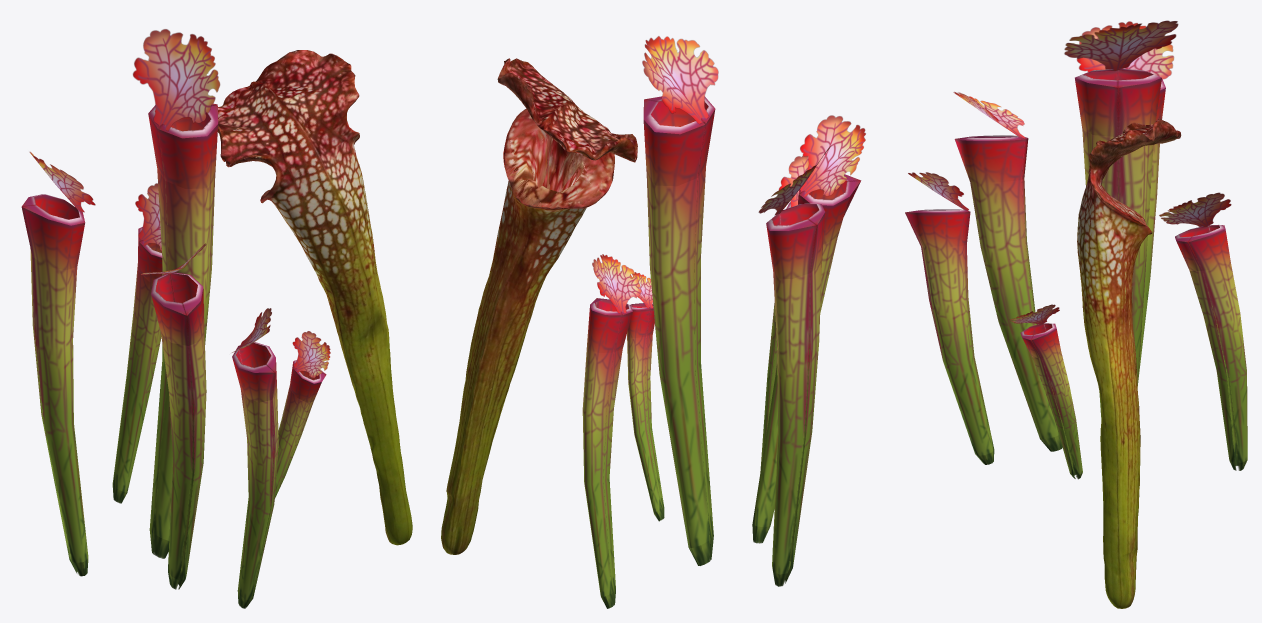
The model's file is pitchers.glb.
3 renders of one model, left to right at view 1: azimuth 30°, elevation 25°; view 2: azimuth 150°, elevation 25°; view 3: azimuth 270°, elevation 25°, orthographic. The views are drawn at different scales.
Visible parts, largest first — view 1: SM_Pitcherplant_CAO_Material #285_0, Object_2; view 2: SM_Pitcherplant_CAO_Material #285_0, Object_2; view 3: SM_Pitcherplant_CAO_Material #285_0, Object_2.
Part boxes in pixels (bbox=[...]): SM_Pitcherplant_CAO_Material #285_0: bbox=[21, 29, 330, 608]; Object_2: bbox=[217, 50, 412, 545]; SM_Pitcherplant_CAO_Material #285_0: bbox=[582, 36, 865, 608]; Object_2: bbox=[441, 58, 637, 554]; SM_Pitcherplant_CAO_Material #285_0: bbox=[905, 20, 1247, 479]; Object_2: bbox=[1077, 118, 1181, 608].
Size of the model in its own units: 293 by 413 by 257.
Materials: 2 (2 with a texture image).
